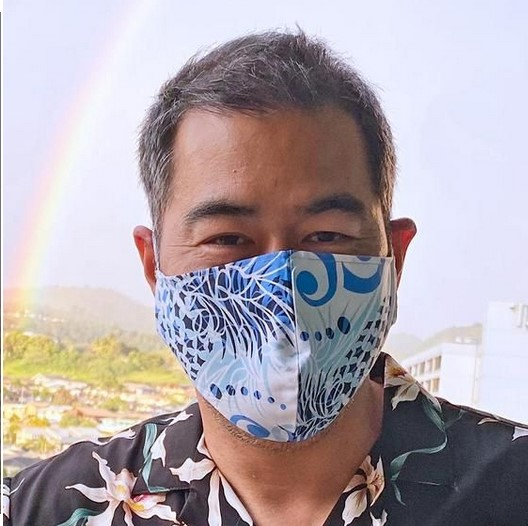face_with_mask: (135, 25, 408, 444)
